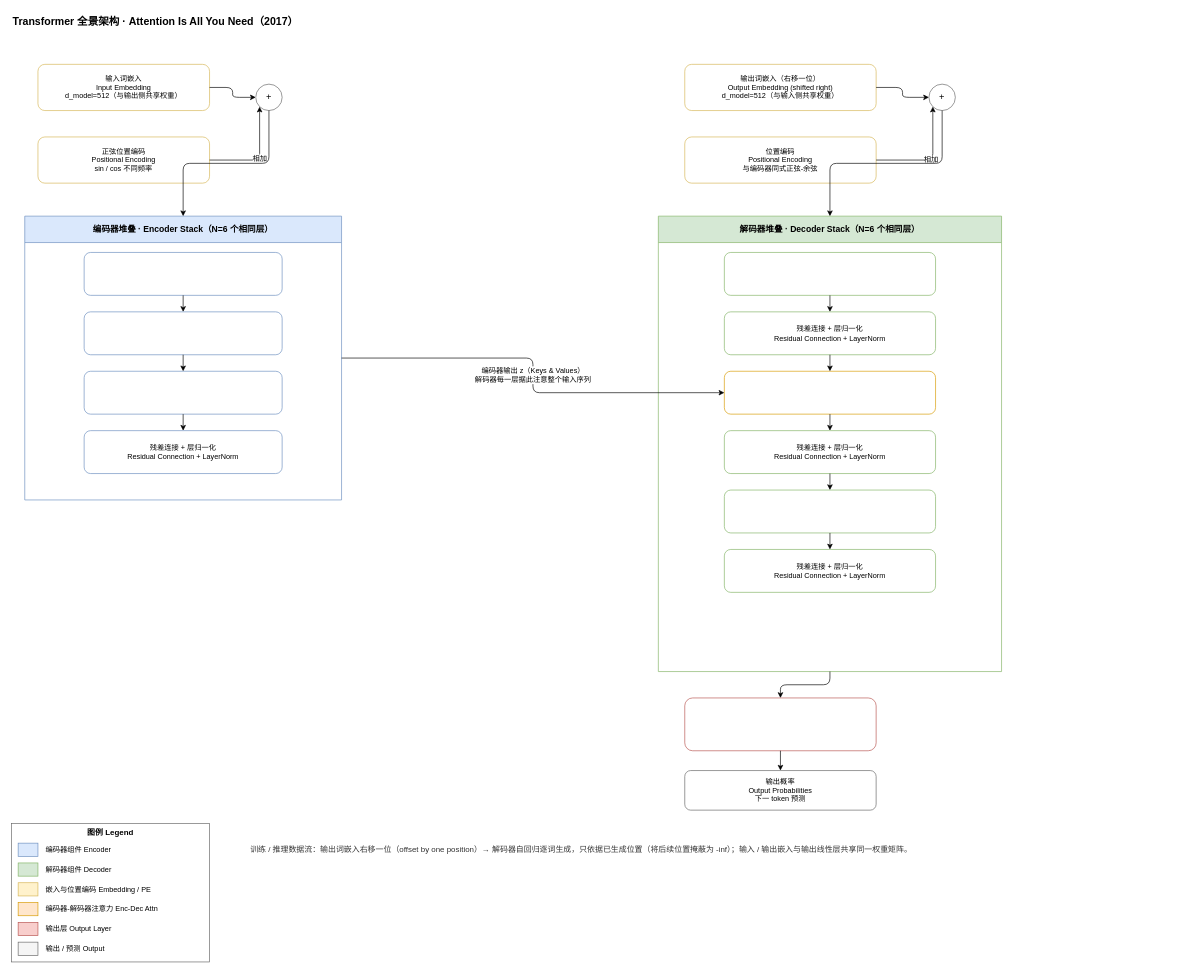
Some shapes in this 1198 by 974 pixel diagram are drawn without their labels. Here are the shapes that lost their labels. From the top down, the centre of each, then its label:
At point (182, 273): "多头自注意力 Multi-Head Self-Attention h=8 头并行 · 每位置可注意全部位置".
At point (830, 273): "掩码多头自注意力 Masked Multi-Head Self-Attention 掩蔽后续位置（设为 -inf），保持自回归".
At point (182, 333): "残差连接 + 层归一化 Residual Connection + LayerNorm LayerNorm(x + Sublayer(x))".
At point (182, 392): "逐位置前馈网络 Position-wise FFN ReLU(xW1+b1)W2+b2 · 内层 d_ff=2048".
At point (830, 392): "编码器-解码器注意力 Encoder-Decoder Attention Q 来自解码器 · K/V 来自编码器输出".
At point (830, 511): "逐位置前馈网络 Position-wise FFN".
At point (780, 724): "线性层 + Softmax Linear + Softmax 权重与词嵌入共享（同式 3.4 节）".
